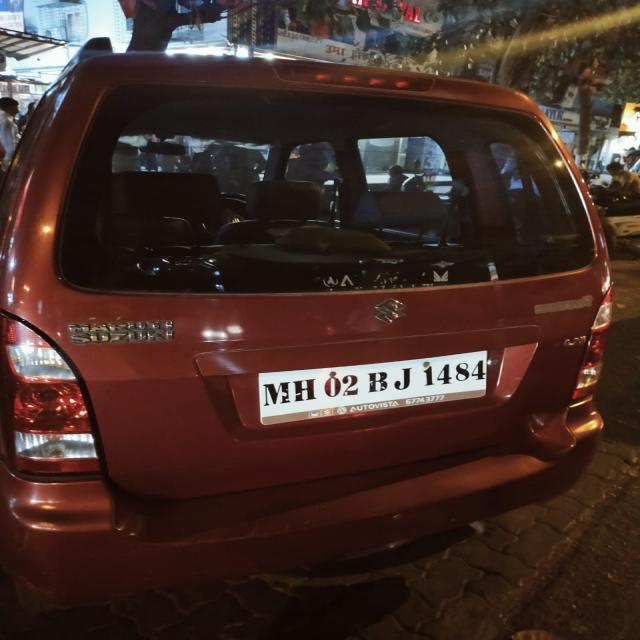Number-Plate: (260, 350, 489, 424)
